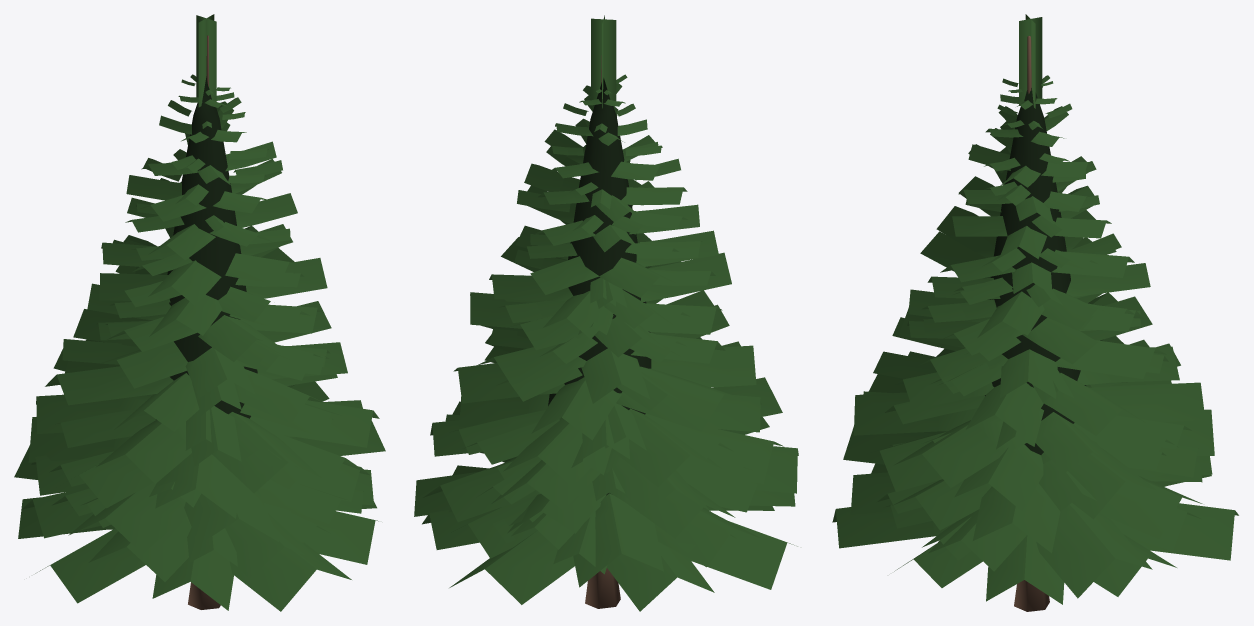
Rendered from tree_forest_c.glb.
The picture shows the model from 3 angles, left to right: view 1: azimuth 30°, elevation 25°; view 2: azimuth 150°, elevation 25°; view 3: azimuth 270°, elevation 25°; orthographic projection.
Visible parts, largest first — view 1: tree_forest_c_lod0; view 2: tree_forest_c_lod0; view 3: tree_forest_c_lod0.
Part boxes in pixels (left/top/right/bottom): tree_forest_c_lod0: left=14, top=14, right=385, bottom=611; tree_forest_c_lod0: left=414, top=15, right=798, bottom=611; tree_forest_c_lod0: left=832, top=14, right=1238, bottom=611.
Size of what is drawn, in the model's own units: 5.21 by 8.67 by 5.42.
